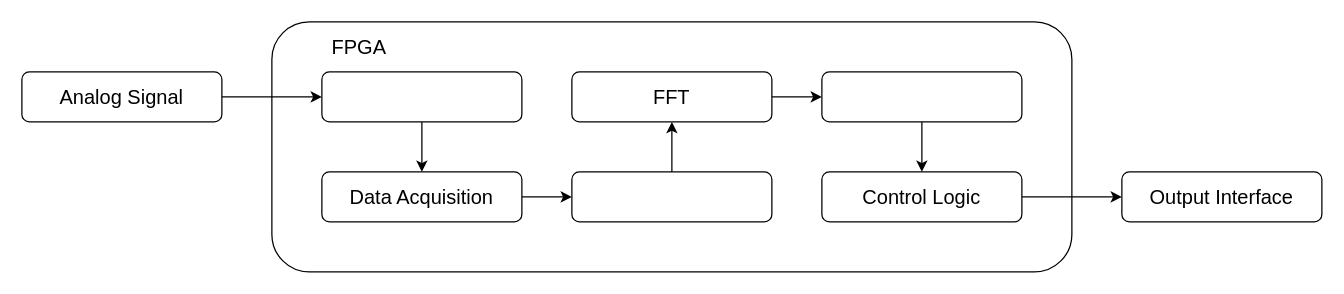
The diagram is 1344 pixels wide and 294 high, and some of its shapes have lost their labels. The centre of each missing label's shape, as x and y in pixels:
"Accumulator" goes at (921,96).
"ADC" goes at (421,96).
"Windowing" goes at (671,196).
